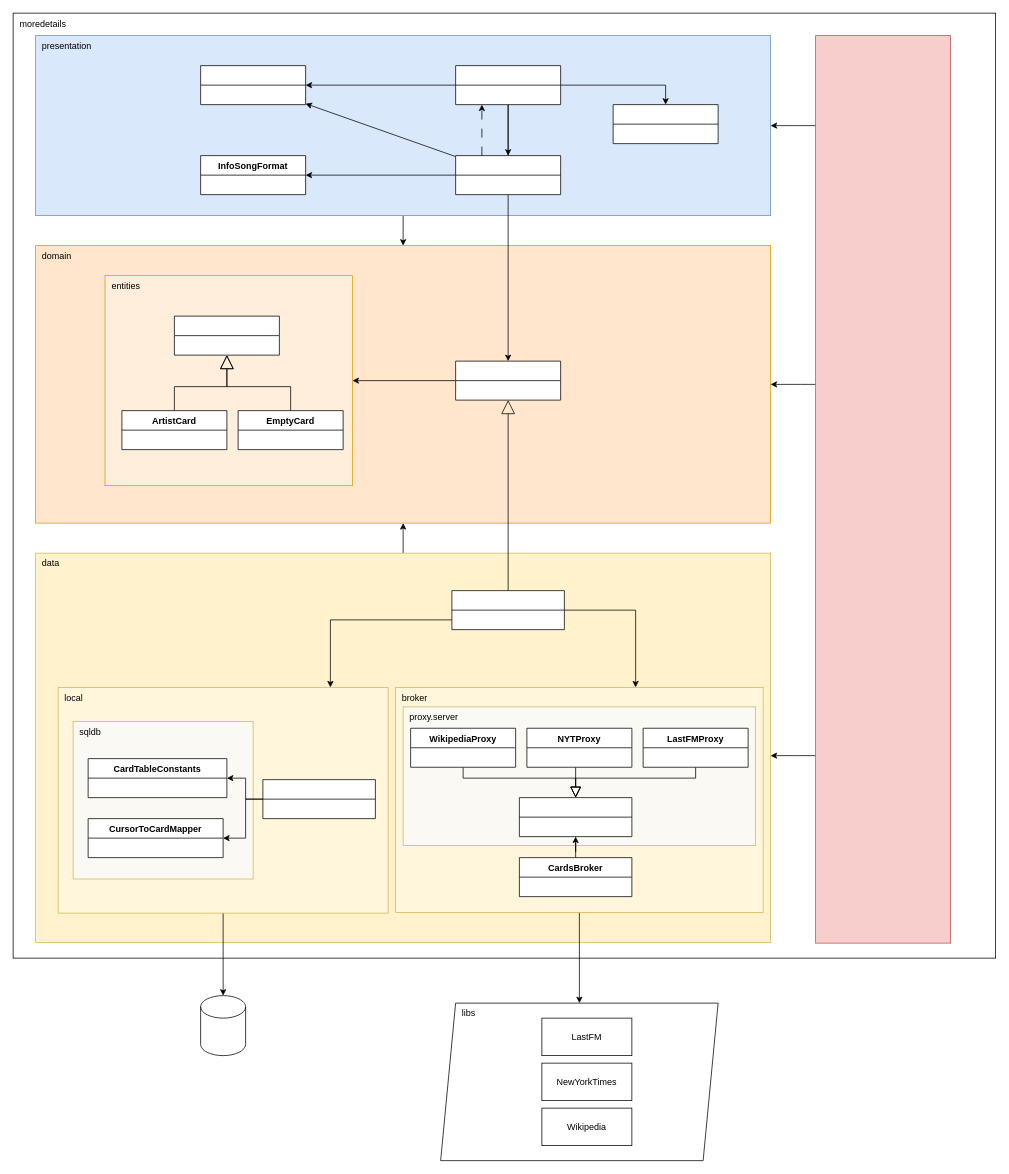
Some shapes in this 1009 by 1174 pixel diagram are drawn without their labels. Each missing label, with the centre of its shape:
ArtistRepository: the point at 508,380
Card: the point at 226,335
CardLocalStorage: the point at 318,799
CardRepositoryImpl: the point at 507,610
injector: the point at 883,489
MoreDetailsPresenter: the point at 508,175
OtherInforUiState: the point at 253,85
OtherInfoView: the point at 508,85
ServerProxy: the point at 575,817
ViewPagerAdapter: the point at 665,124
